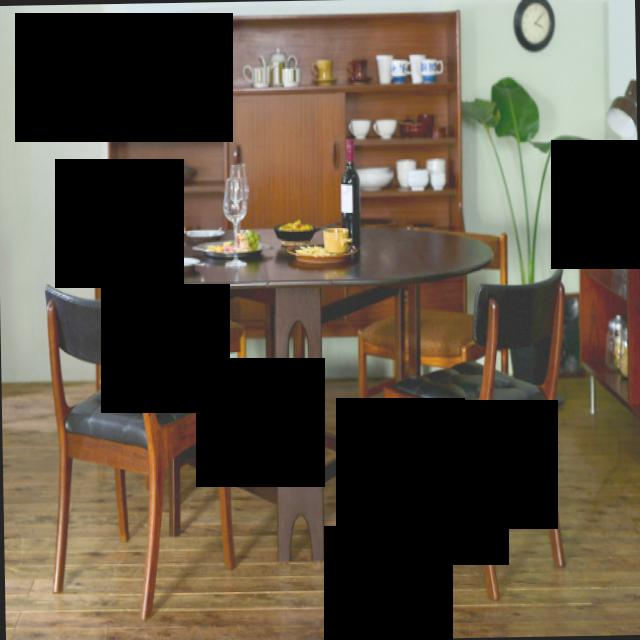vintage chair: (39, 276, 242, 616), (371, 266, 566, 602)
vintage desk: (83, 218, 498, 566)
vintage shelf: (104, 3, 466, 225), (574, 178, 640, 447)
